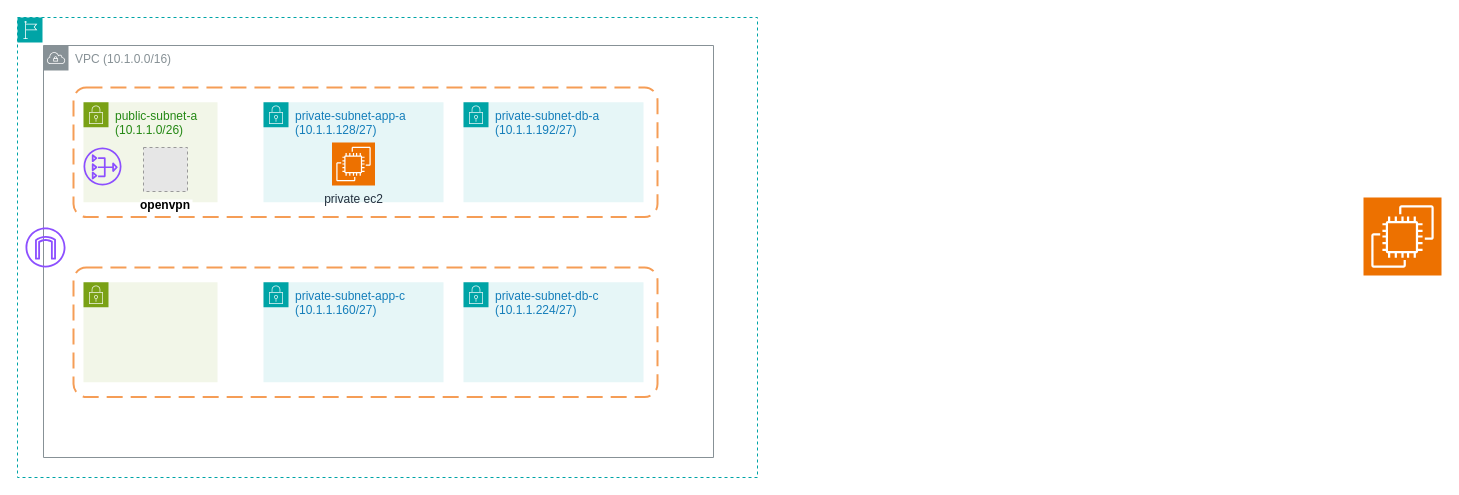
The diagram is 1459 pixels wide and 495 high, and some of its shapes have lost their labels. Grey dashed boxes stand in for pictures. The shapes that lost their labels are listed below. From the top down, each one's box as (x1, y1, x2, y2) in pixels, then its label:
(83, 147, 121, 185): nat-gw
(25, 227, 65, 267): igw
(16, 16, 758, 478): Region (ap-northeast-2)
(82, 281, 218, 382): public-subnet-c (10.1.1.64/26)
